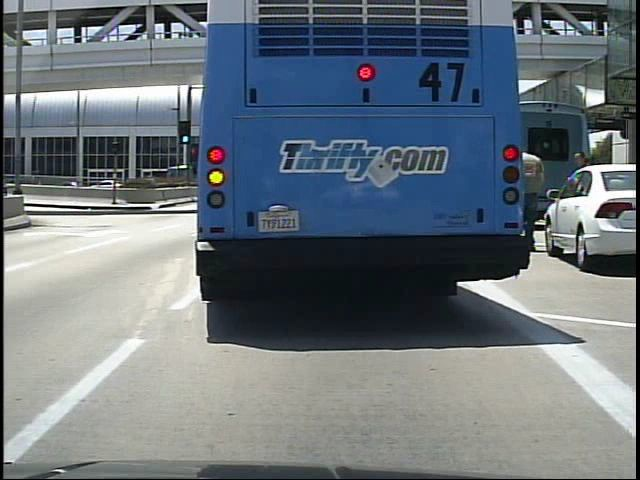person: (567, 149, 594, 254)
